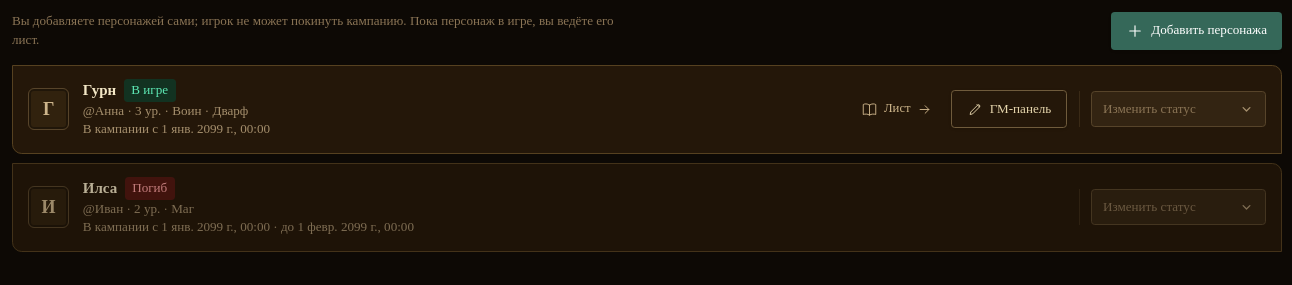
Test: campaign roster › offers only the moves the backend allows for each status
Click the button with aria-label "Статус: Илса".
click(1178, 207)  # box [1091,189,1266,225]
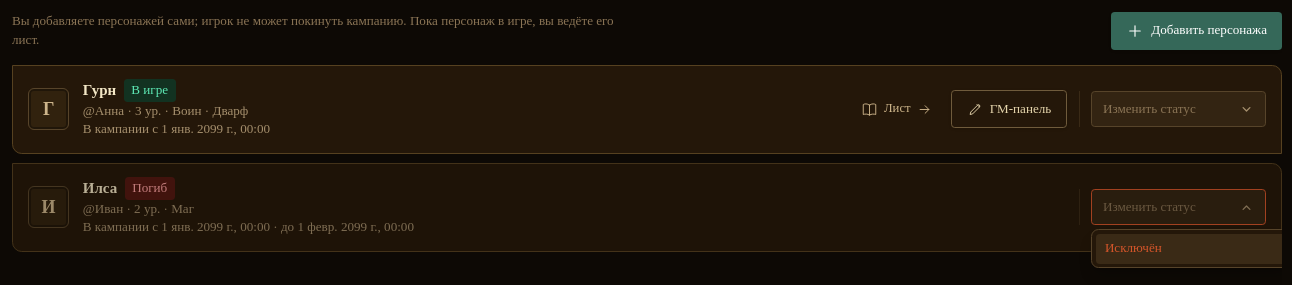
Expected: the options read "Исключён", in this order, [1096,234,1286,264]
Press Escape
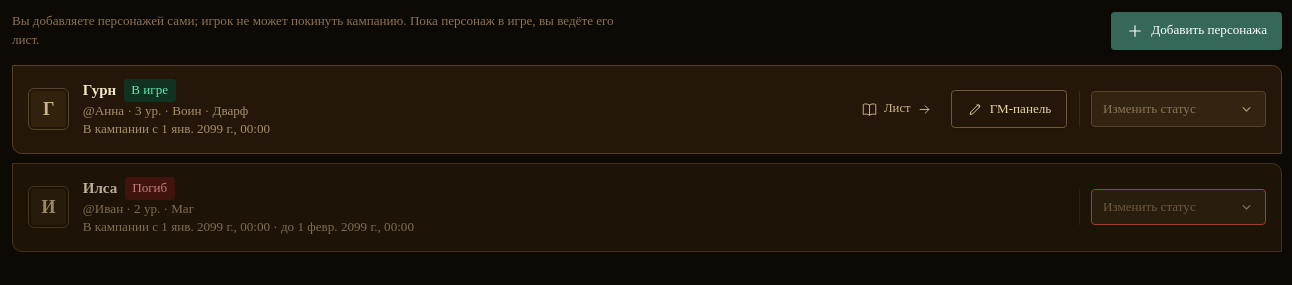
Click the button with aria-label "Статус: Гурн".
click(1178, 109)  # box [1091,91,1266,127]
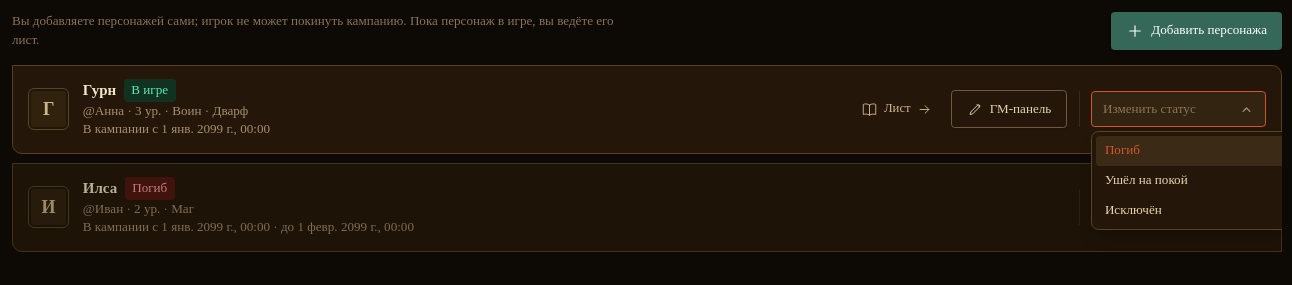
Expected: the options read "Погиб", "Ушёл на покой", "Исключён", in this order, [1096,136,1286,166]; [1096,166,1286,196]; [1096,196,1286,226]
